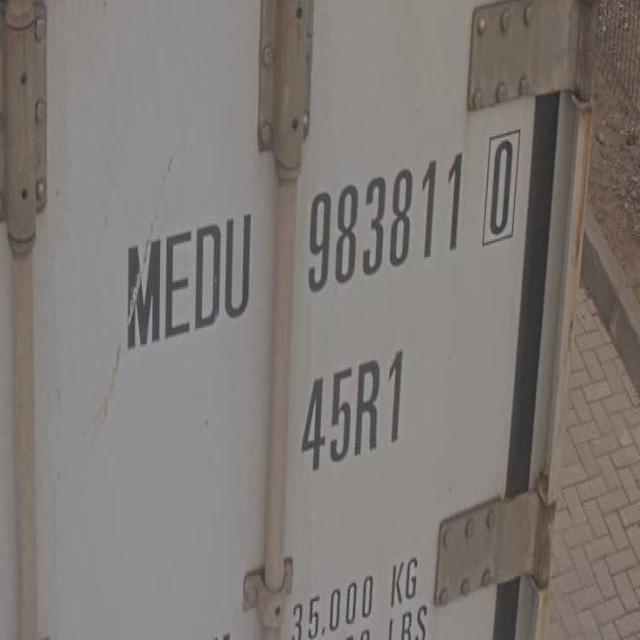dv: (478, 123, 521, 262)
owner: (111, 200, 256, 349)
serial: (304, 142, 465, 299)
size: (298, 328, 408, 481)
